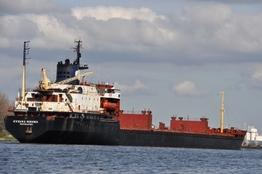Cargoship: (3, 36, 250, 146)
